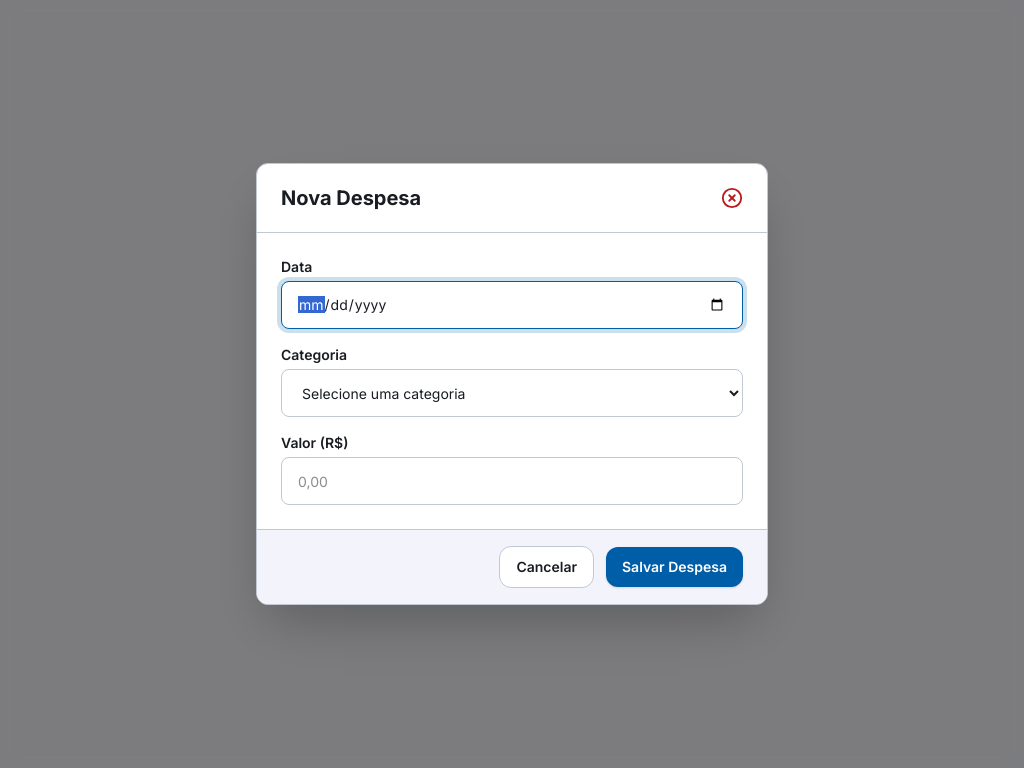
Test: AddExpenseModal › shows backend error toast on API error and keeps modal open
The image size is (1024, 768).
Type "2024-01-15" into the date field labelled "Data" at coordinates (512, 305), box [281,281,743,329]
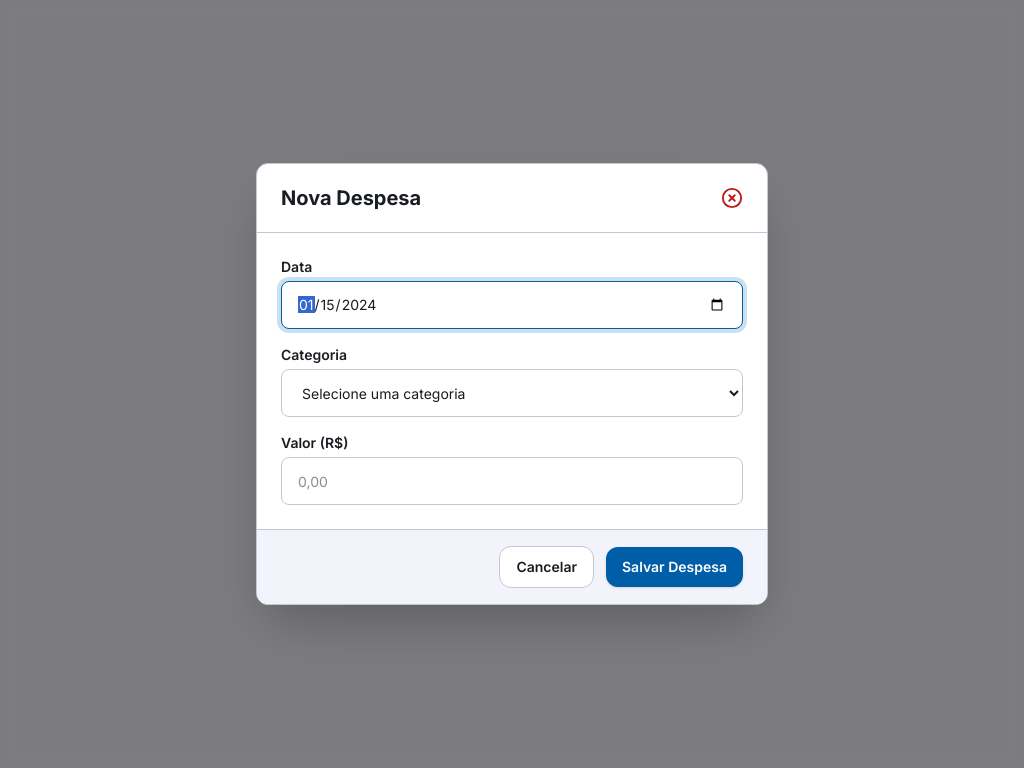
Select "Alimentação" in the dropdown labelled "Categoria" at coordinates (512, 393), box [281,369,743,417]
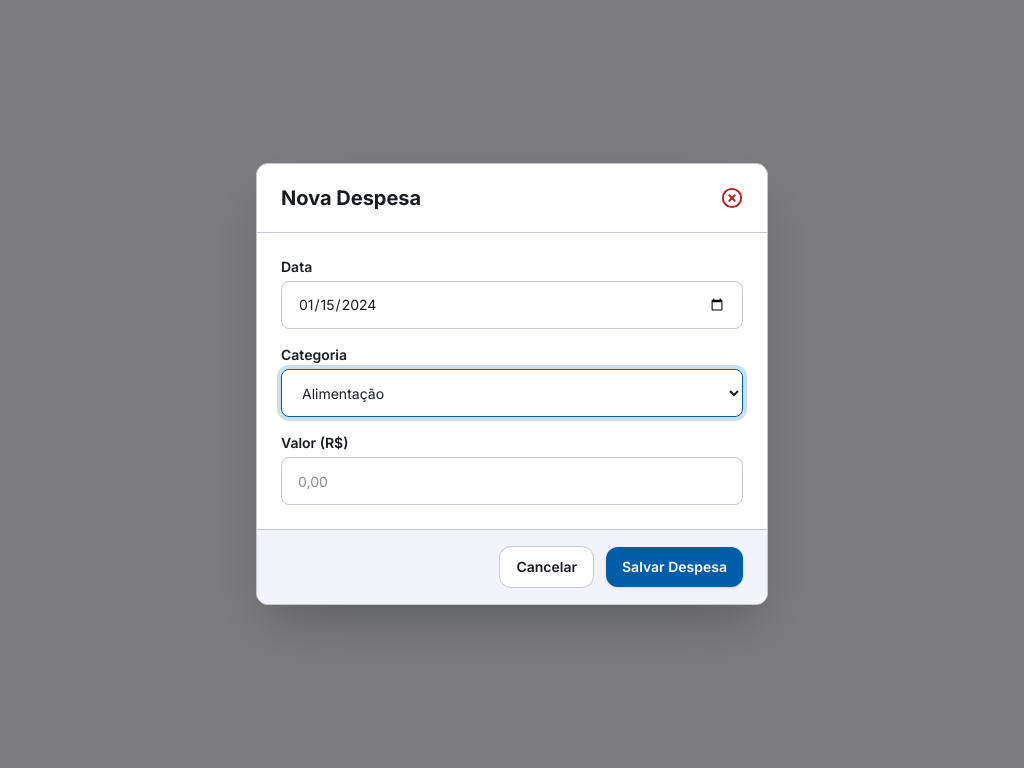
Type "100" into the number field labelled "Valor (R$)" at coordinates (512, 481), box [281,457,743,505]
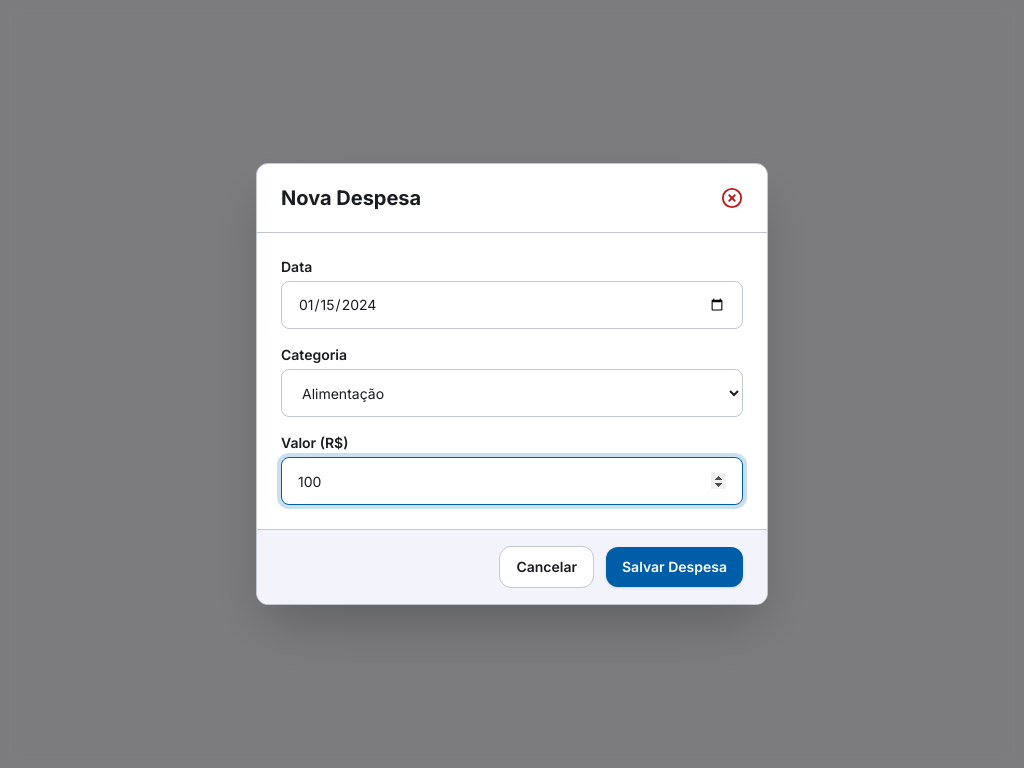
Click the button "Salvar Despesa" at coordinates (674, 567), box [606,547,743,587]
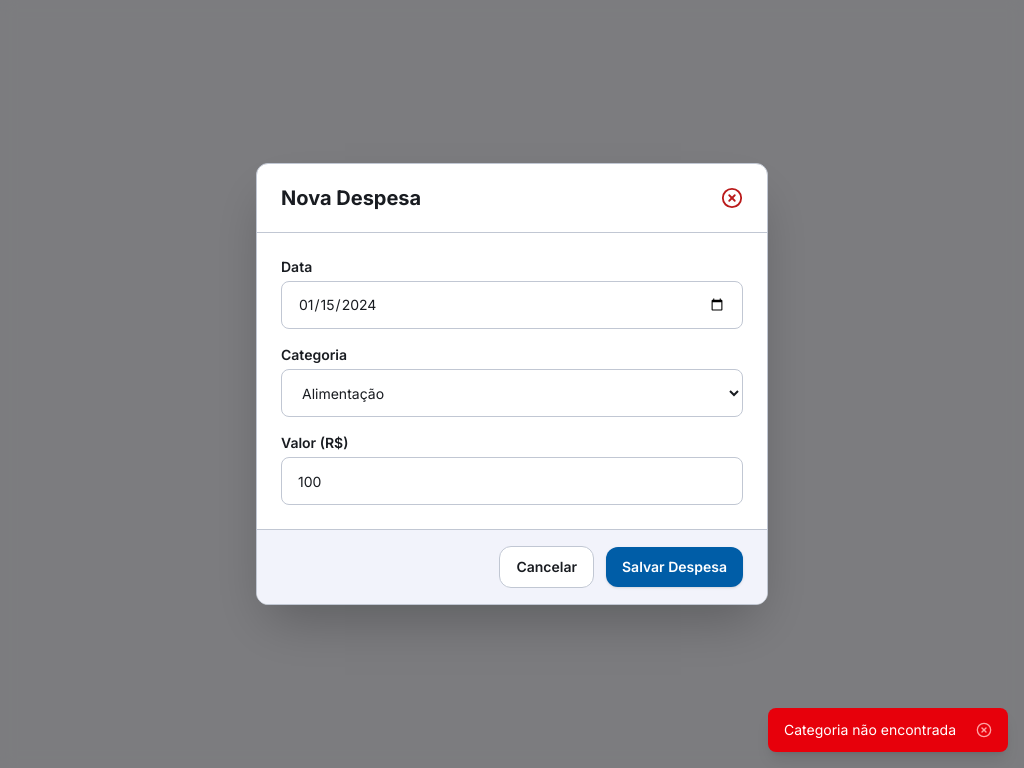
Expected: the message reads "Categoria não encontrada", [784,721,956,738]
